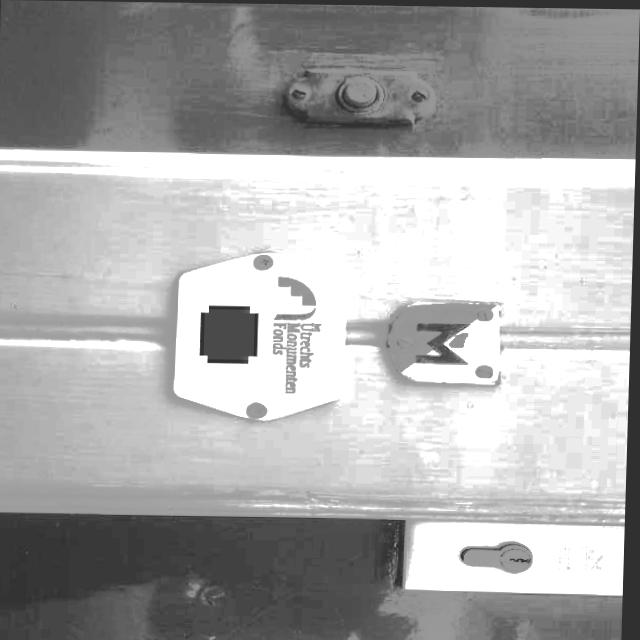qr_code: (205, 308, 256, 359)
